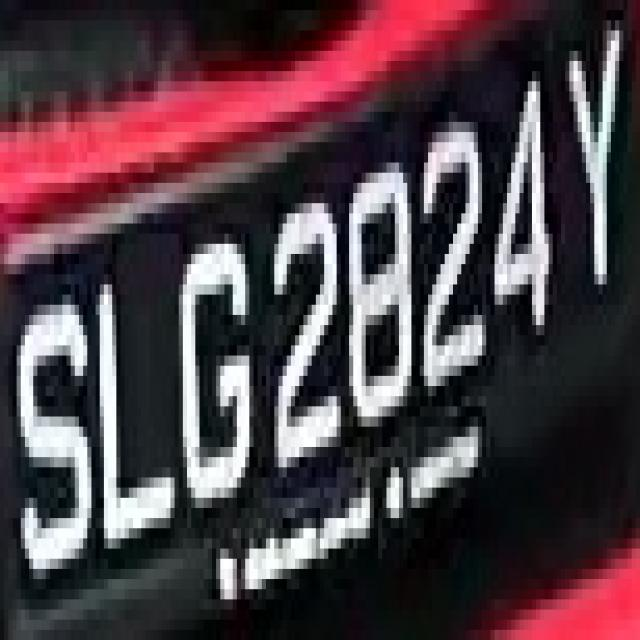2: (262, 193, 353, 508), (412, 91, 491, 416)
4: (473, 41, 552, 356)
8: (341, 112, 420, 477)
G: (171, 224, 270, 528)
L: (87, 213, 179, 600)
S: (4, 254, 96, 599)
Y: (561, 10, 636, 335)
